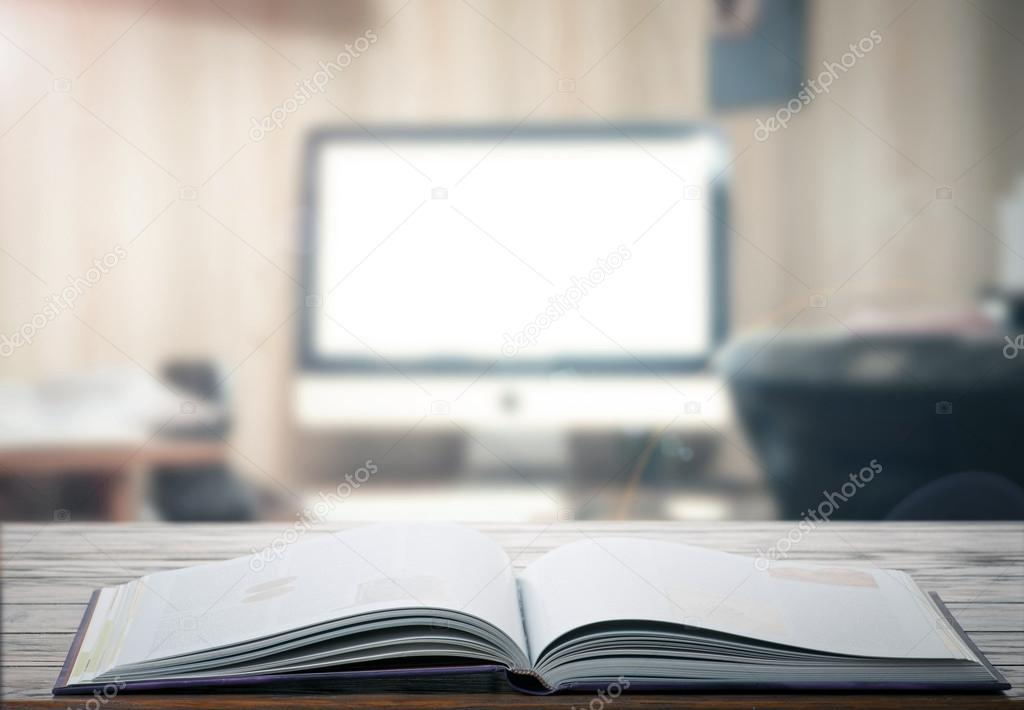Open Book: (72, 538, 1015, 691)
